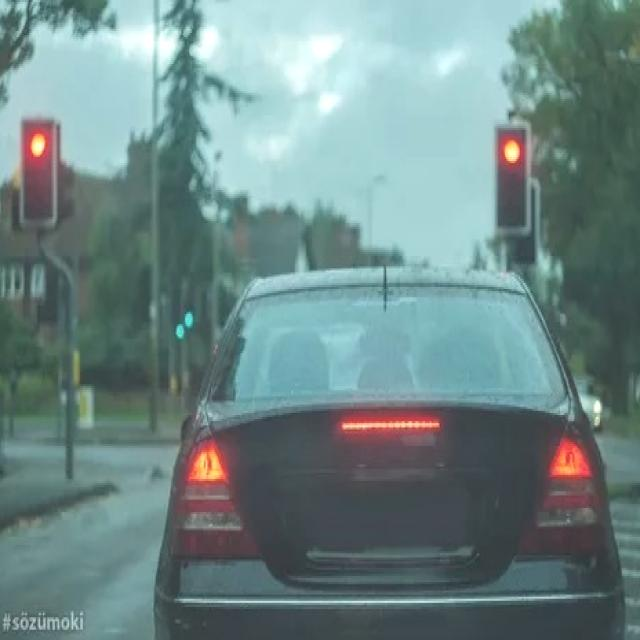kirmizi: (496, 127, 528, 230), (22, 120, 54, 221)
